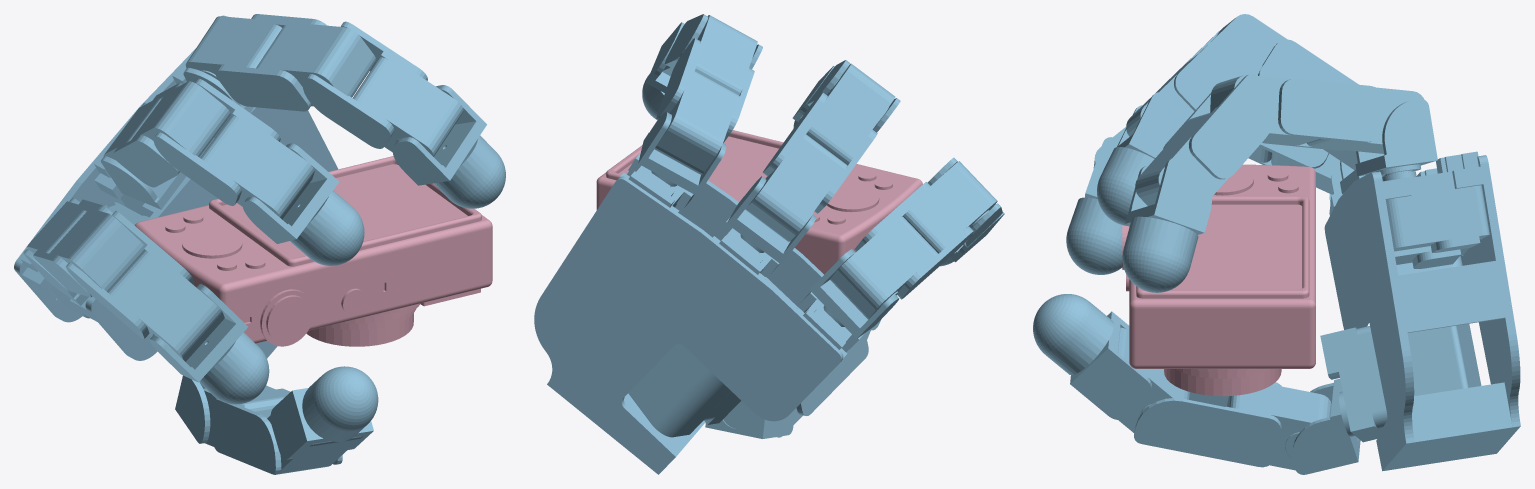
3 renders of one model, left to right at view 1: azimuth 30°, elevation 25°; view 2: azimuth 150°, elevation 25°; view 3: azimuth 270°, elevation 25°, orthographic. The views are drawn at different scales.
Parts seen in each view (by area): view 1: world, camera.stl; view 2: world, camera.stl; view 3: world, camera.stl.
Boxes of the visible parts, <box> form: world: <box>14,14,505,474</box>; camera.stl: <box>135,156,492,346</box>; world: <box>534,14,1004,474</box>; camera.stl: <box>596,130,922,274</box>; world: <box>1033,14,1520,474</box>; camera.stl: <box>1122,164,1315,396</box>.
Size of the model in its own units: 0.1701 by 0.1646 by 0.1691.
